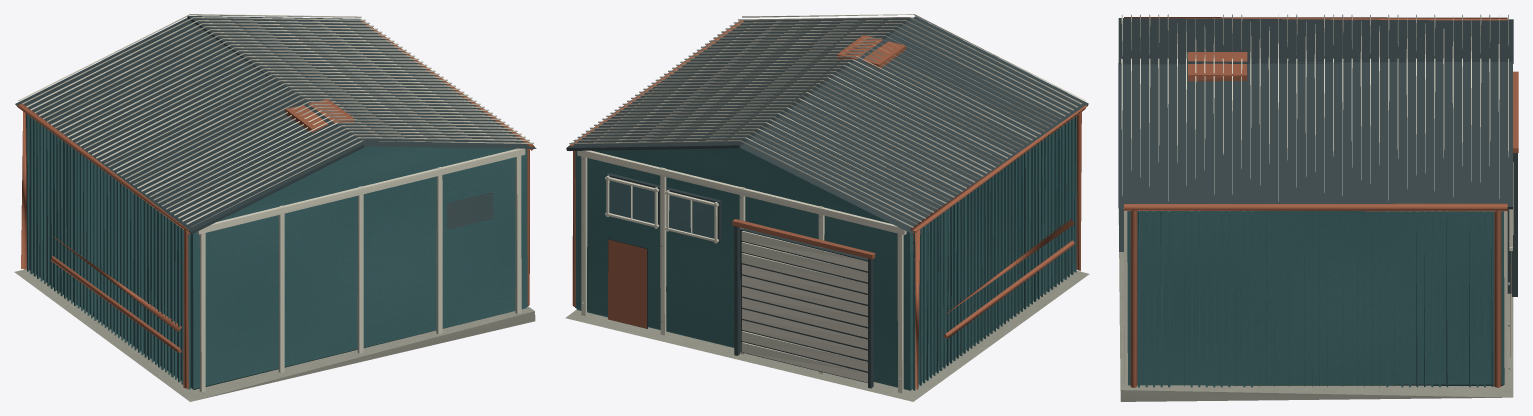
The picture shows the model from 3 angles, left to right: view 1: azimuth 30°, elevation 25°; view 2: azimuth 150°, elevation 25°; view 3: azimuth 270°, elevation 25°; orthographic projection. The views are drawn at different scales.
Parts seen in each view (by area): view 1: static_assembly_steel_001, static_assembly_dark_001, static_assembly_ivory_001, static_assembly_concrete_001, static_assembly_rust_001; view 2: static_assembly_dark_001, static_assembly_steel_001, static_assembly_ivory_001, loading_door_panels, static_assembly_rust_001, static_assembly_concrete_001, pedestrian_door_leaf, static_assembly_glass_001; view 3: static_assembly_dark_001, static_assembly_steel_001, static_assembly_ivory_001, static_assembly_rust_001, static_assembly_concrete_001.
Part boxes in pixels (x1,y1,x2,y2): static_assembly_steel_001: (24,114,527,389); static_assembly_dark_001: (15,16,536,233); static_assembly_ivory_001: (18,14,533,392); static_assembly_concrete_001: (14,269,535,401); static_assembly_rust_001: (16,21,535,388); static_assembly_dark_001: (566,16,1088,388); static_assembly_steel_001: (575,116,1076,390); static_assembly_ivory_001: (569,14,1086,393); loading_door_panels: (741,231,867,382); static_assembly_rust_001: (568,20,1087,389); static_assembly_concrete_001: (565,270,1089,401); pedestrian_door_leaf: (608,239,646,328); static_assembly_glass_001: (609,181,714,238); static_assembly_dark_001: (1118,18,1517,296); static_assembly_steel_001: (1127,211,1504,387); static_assembly_ivory_001: (1121,14,1513,384); static_assembly_rust_001: (1124,17,1518,387); static_assembly_concrete_001: (1118,208,1513,401).
Size of the model in its own units: 9 by 5.5 by 8.
7 materials, 2 textured.
